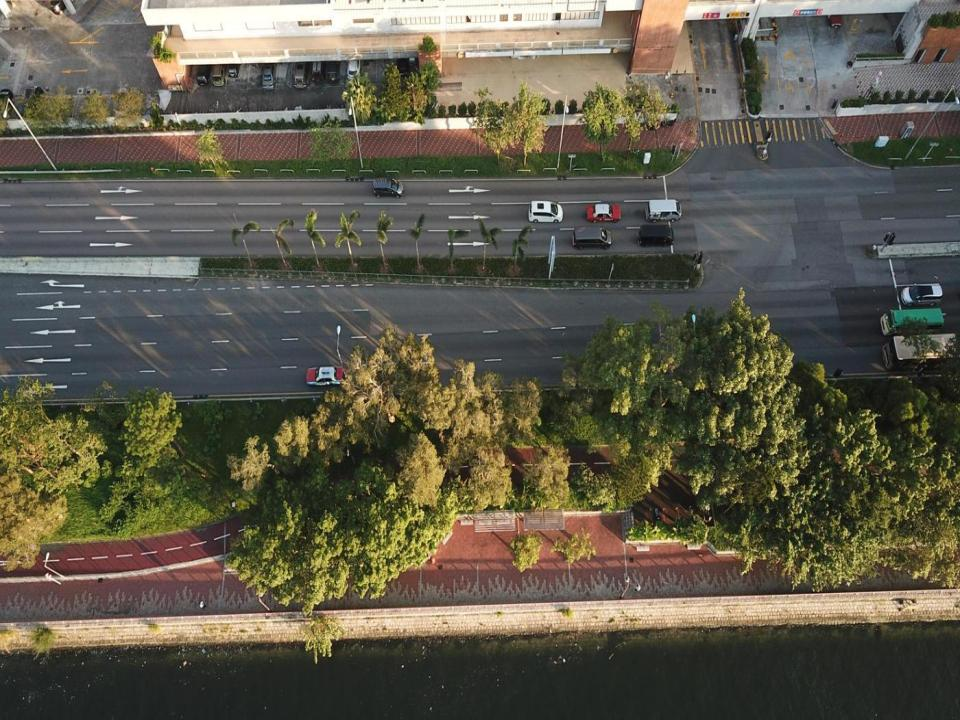bus: (881, 332, 959, 372), (881, 306, 944, 335)
car: (902, 282, 942, 306), (528, 199, 563, 224), (305, 366, 347, 386), (586, 205, 621, 224), (0, 88, 14, 128), (826, 1, 842, 29), (347, 50, 360, 80), (263, 60, 274, 90), (228, 58, 240, 78), (51, 0, 68, 13)
van: (22, 85, 44, 125), (573, 226, 612, 248), (646, 199, 682, 222), (636, 225, 674, 246), (372, 176, 404, 198), (294, 56, 309, 88), (310, 56, 324, 84), (326, 55, 340, 83), (396, 50, 409, 79), (197, 58, 210, 86), (213, 58, 225, 88)
